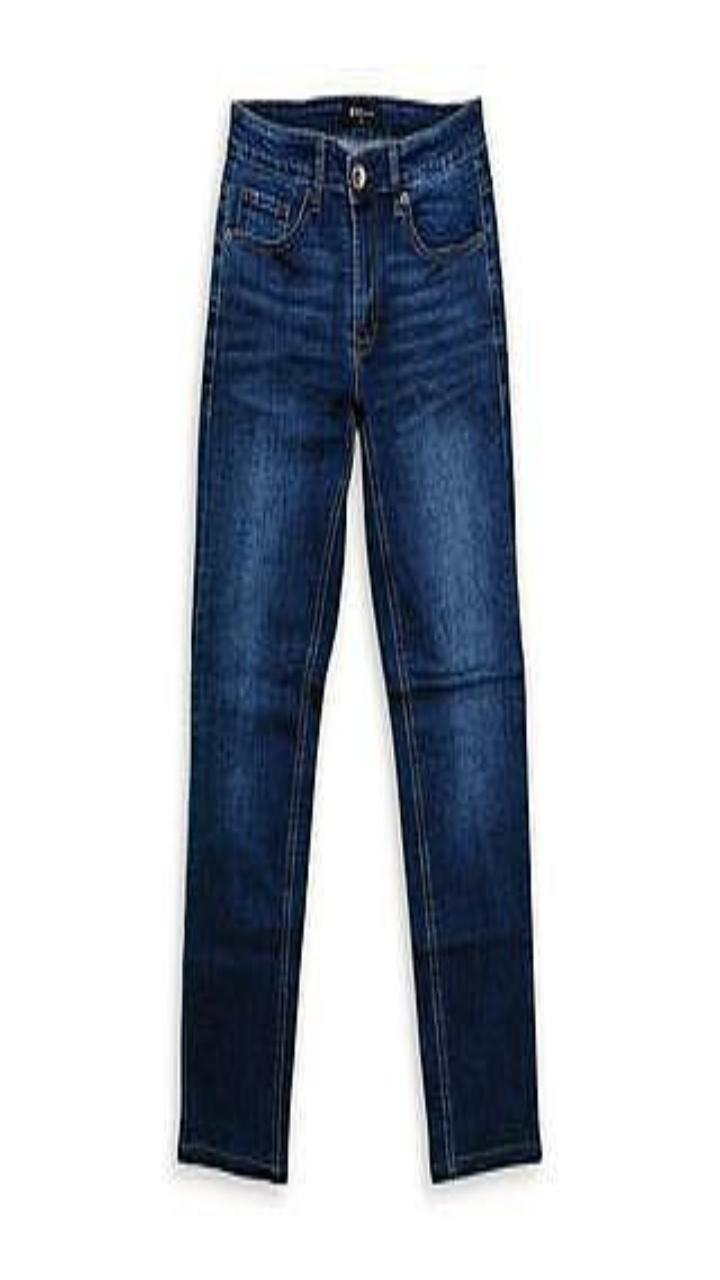Jeans: (179, 98, 539, 1180)
